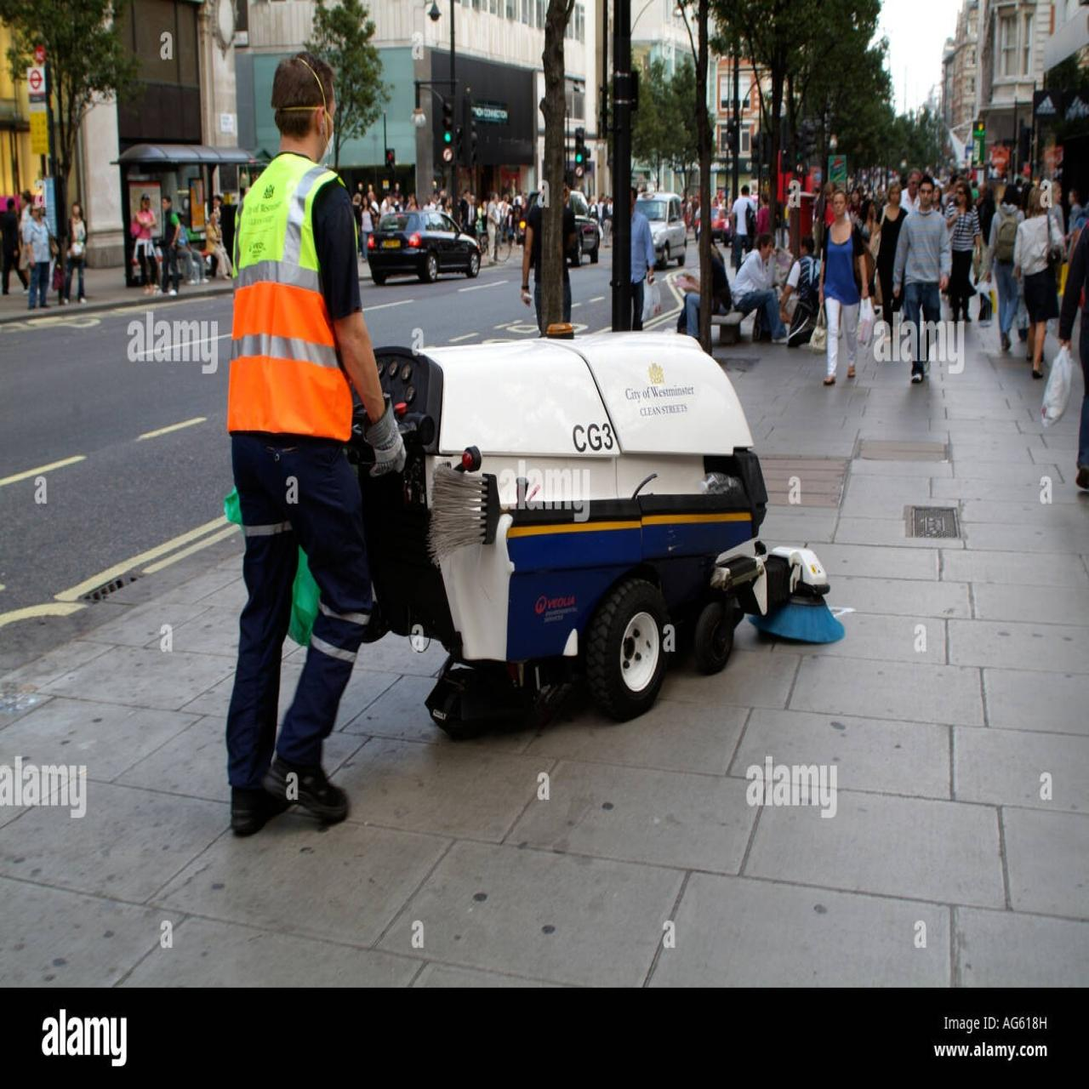Person: (210, 24, 381, 813)
Safety_Vest: (225, 154, 351, 442)
